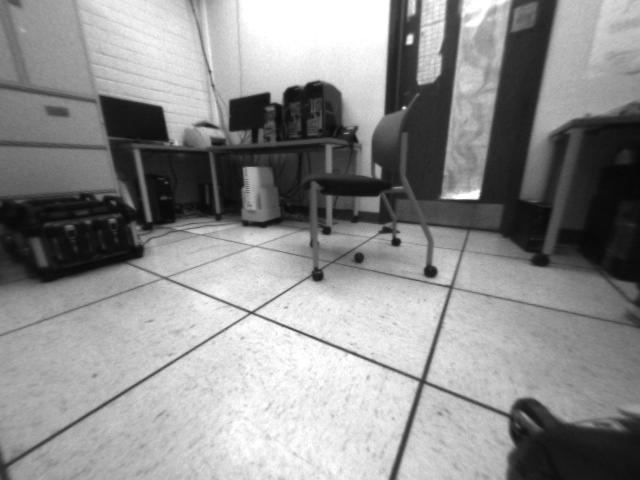dogtoy: (351, 246, 372, 268)
